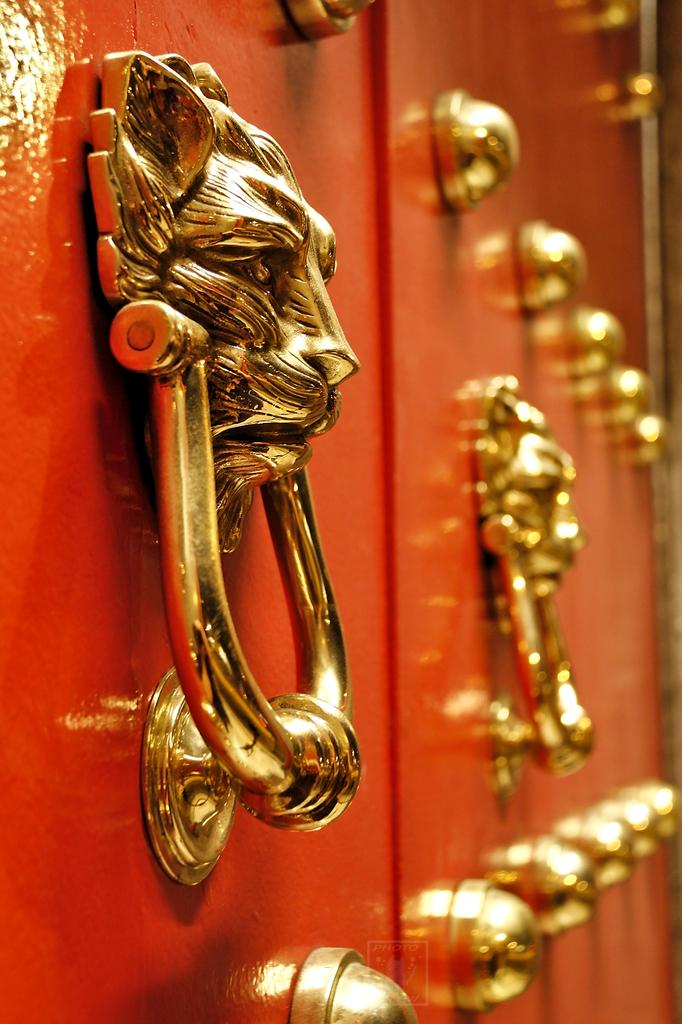handle: (148, 363, 369, 849), (514, 589, 617, 798)
